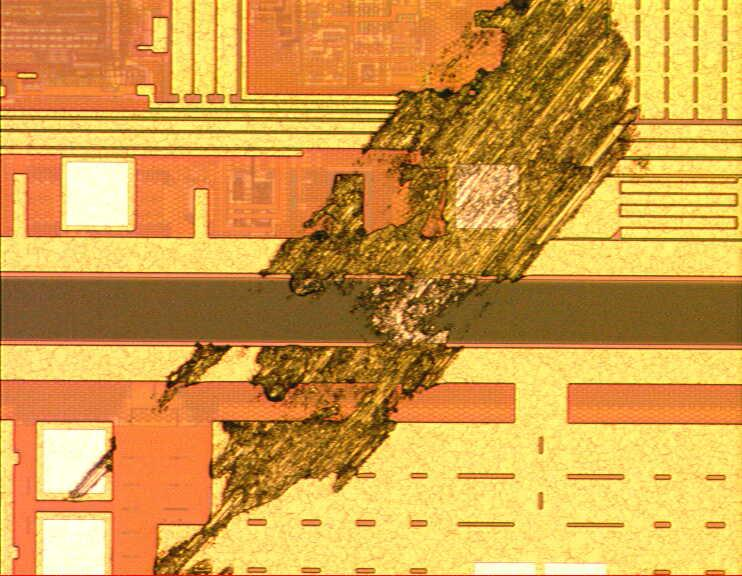SCRATCH: (60, 1, 656, 576)
